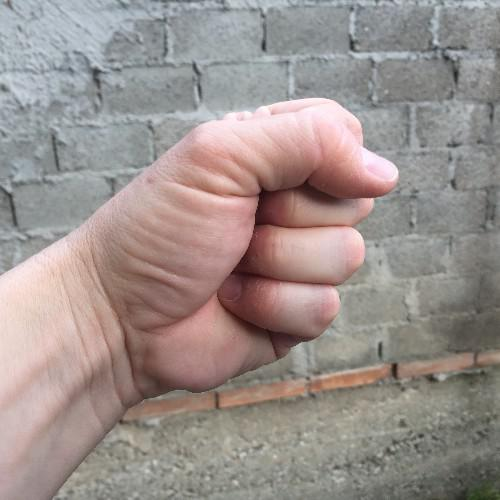rock: (102, 77, 406, 405)
